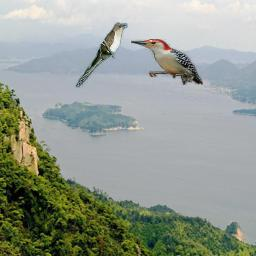Cuckoo: (75, 22, 128, 90)
Woodpecker: (131, 39, 203, 85)
